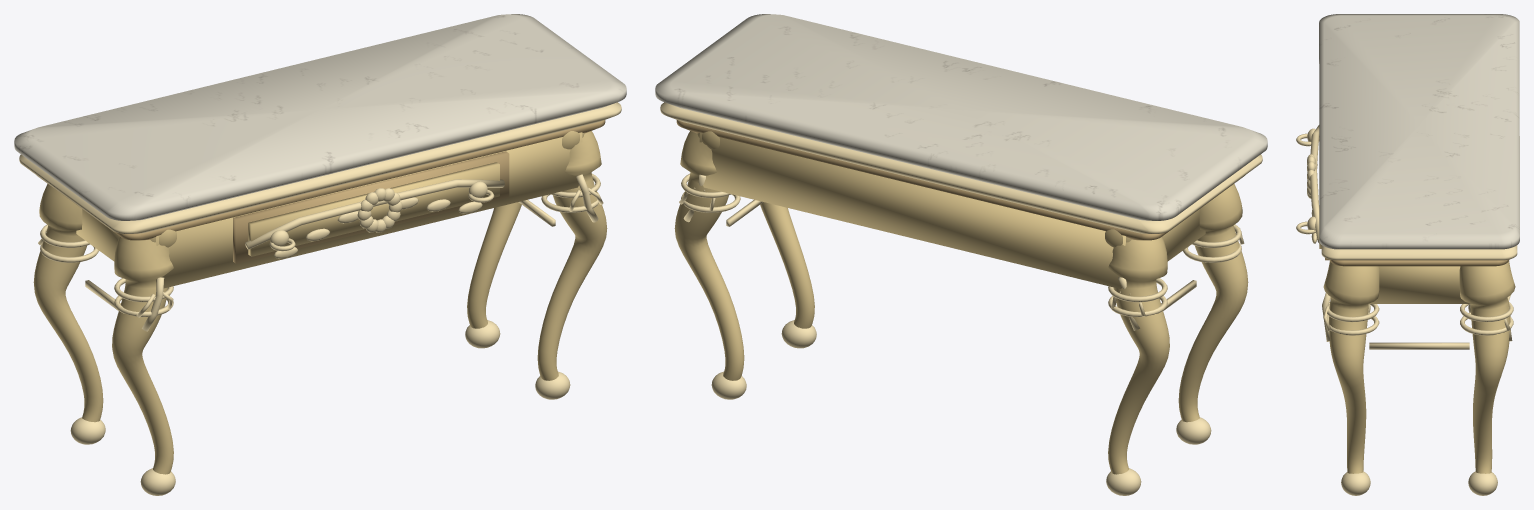
Rendered from console_gold_3d.glb.
3 views of the same model, side by side, from view 1: azimuth 30°, elevation 25°; view 2: azimuth 150°, elevation 25°; view 3: azimuth 270°, elevation 25° (orthographic). The views are drawn at different scales.
Visible parts, largest first — view 1: textured_surface_0, 3D_gilt, 3D_gilt_high, 3D_gilt_dark; view 2: textured_surface_0, 3D_gilt, 3D_gilt_high, 3D_gilt_dark; view 3: textured_surface_0, 3D_gilt, 3D_gilt_high, 3D_gilt_dark.
Boxes of the visible parts, x1,y1,x2,y2 form: textured_surface_0: [14, 14, 626, 220]; 3D_gilt: [33, 131, 607, 474]; 3D_gilt_high: [19, 102, 621, 495]; 3D_gilt_dark: [37, 120, 605, 263]; textured_surface_0: [655, 14, 1267, 220]; 3D_gilt: [674, 131, 1248, 474]; 3D_gilt_high: [660, 102, 1262, 495]; 3D_gilt_dark: [676, 120, 1244, 240]; textured_surface_0: [1319, 14, 1519, 249]; 3D_gilt: [1319, 243, 1515, 473]; 3D_gilt_high: [1296, 125, 1517, 495]; 3D_gilt_dark: [1325, 258, 1508, 266].
Size of the model in its own units: 1.46 by 0.837 by 0.602.
Materials: 4 (1 with a texture image).
